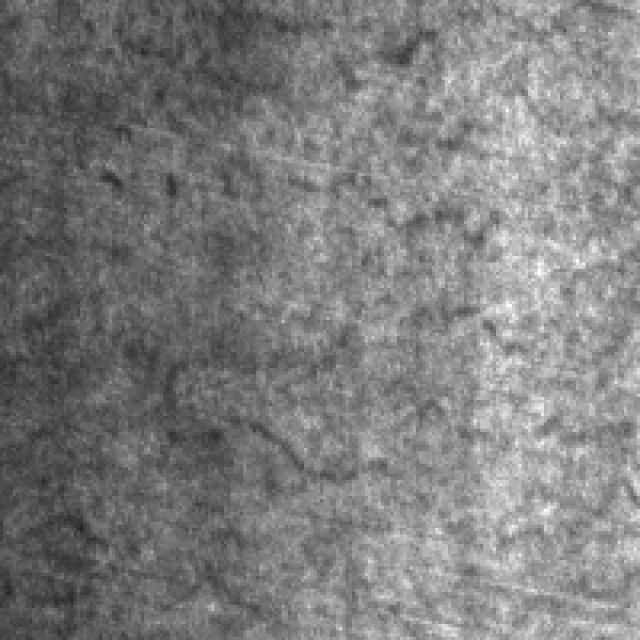crazing: (138, 3, 640, 249), (163, 288, 640, 518)
